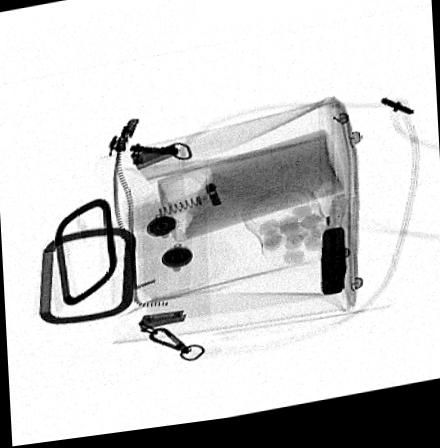Lighter: (319, 233, 347, 304)
